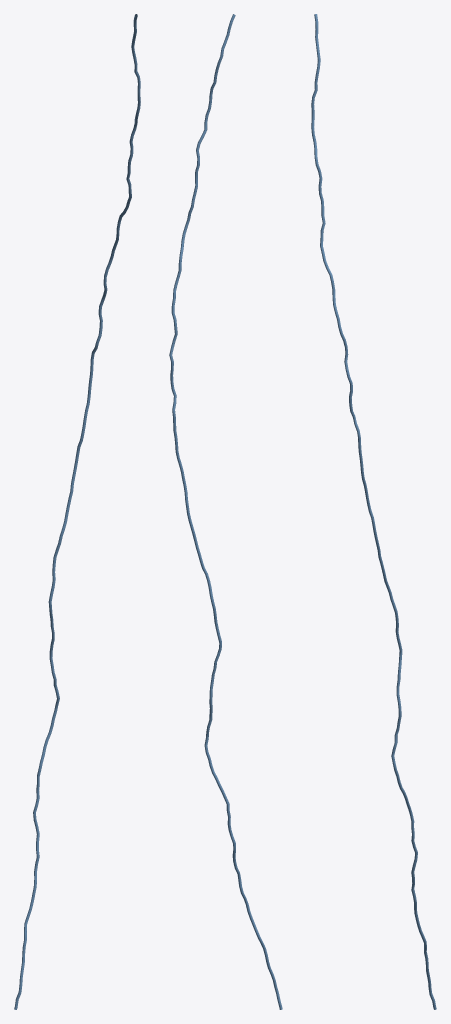
The model's file is sweep54.fbx.
3 views of the same model, side by side, from view 1: azimuth 90°, elevation 25°; view 2: azimuth 210°, elevation 25°; view 3: azimuth 270°, elevation 25° (orthographic). The views are drawn at different scales.
Visible parts, largest first — view 1: sweep54; view 2: sweep54; view 3: sweep54.
Boxes of the visible parts, bbox=[...] form: sweep54: bbox=[14, 14, 140, 1009]; sweep54: bbox=[169, 14, 282, 1009]; sweep54: bbox=[311, 14, 436, 1009].
Bounding box in the file's own units: 0.6541 × 7.12 × 0.8167.
